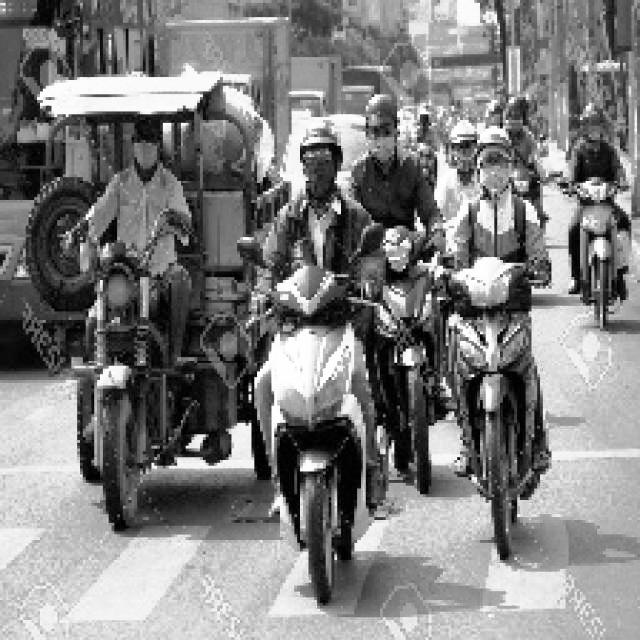Bike: (251, 263, 381, 588), (453, 237, 539, 537), (374, 230, 443, 463), (569, 152, 631, 318)
